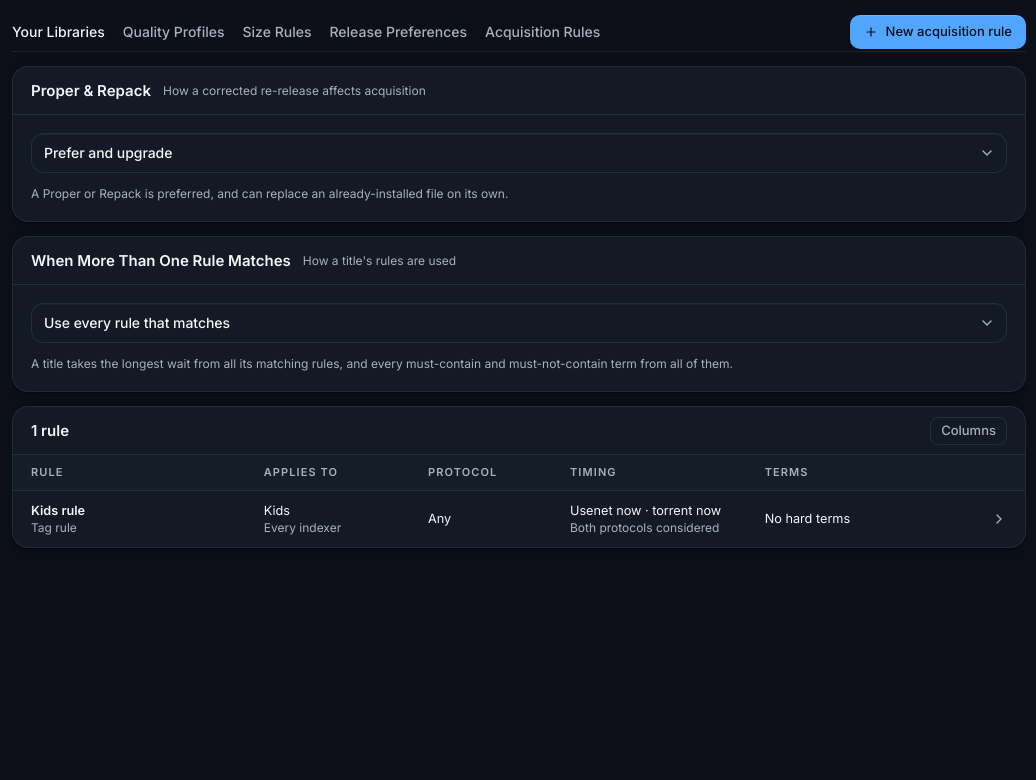
Proper and Repack choice › goes back to the saved choice and says it could not save when the server refuses
Step 1. Select "Do not upgrade automatically" in the dropdown named "What a Proper or Repack release does" → (519, 153), box [31,133,1007,173]
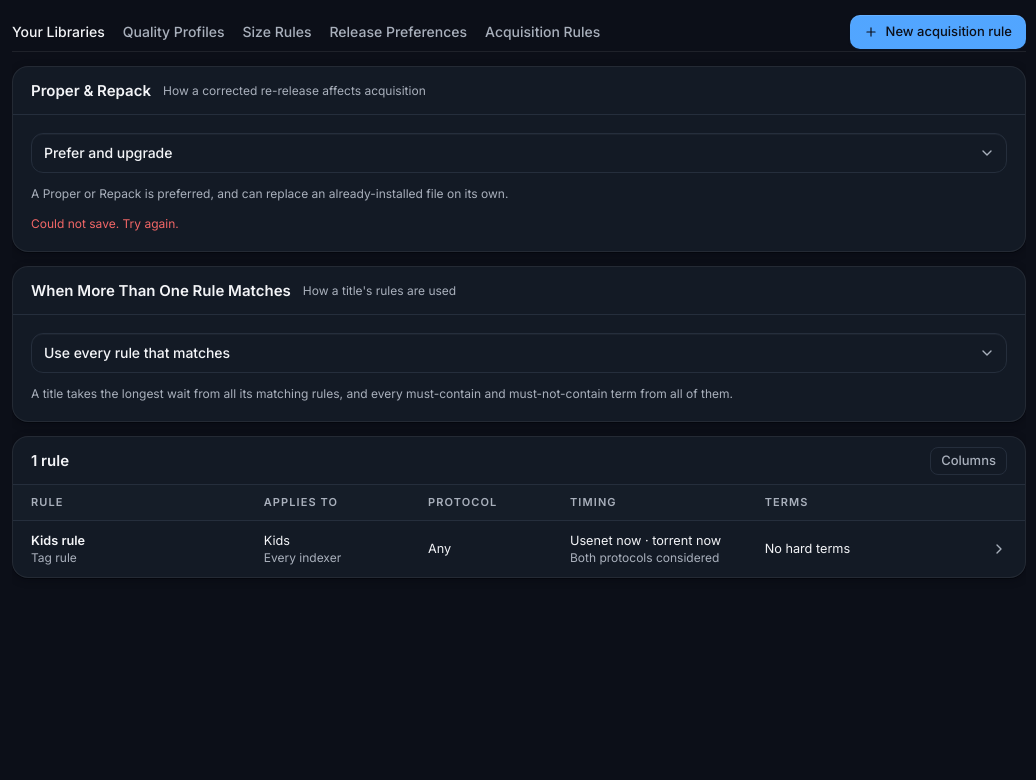
Now the text "Could not save. Try again." is shown, box [31,216,179,231]
